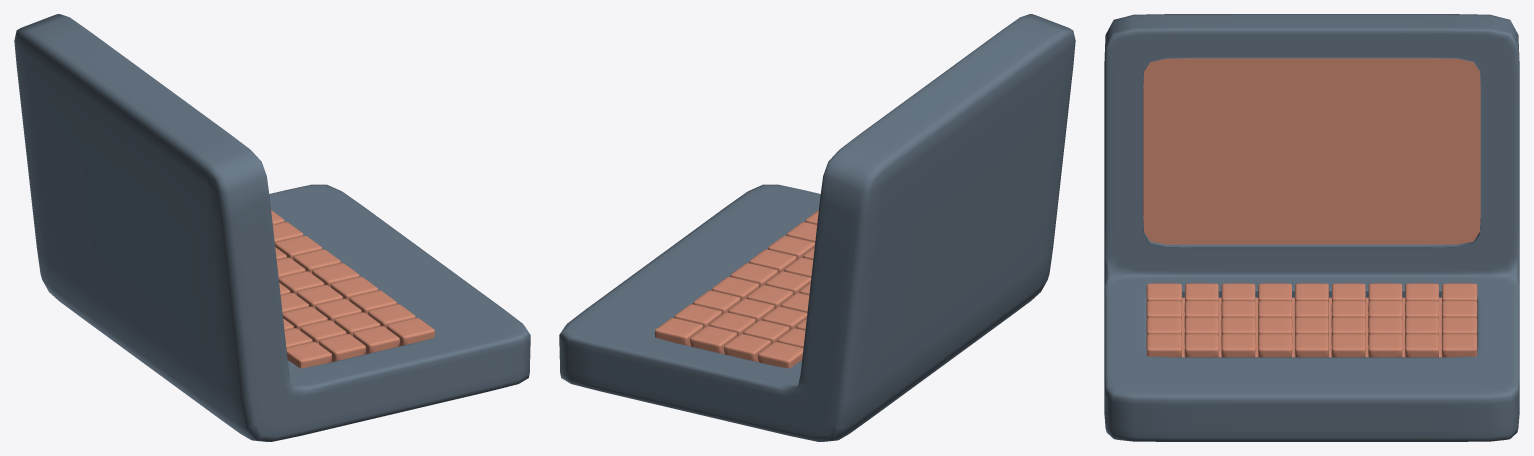
The model's file is laptop.glb.
3 renders of one model, left to right at view 1: azimuth 30°, elevation 25°; view 2: azimuth 150°, elevation 25°; view 3: azimuth 270°, elevation 25°, orthographic.
Visible parts, largest first — view 1: laptop; view 2: laptop; view 3: laptop.
Boxes of the visible parts, x1,y1,x2,y2 form: laptop: (14, 14, 530, 441); laptop: (559, 14, 1075, 441); laptop: (1104, 14, 1519, 441).
Size of the model in its own units: 2.81 by 2.43 by 3.21.
